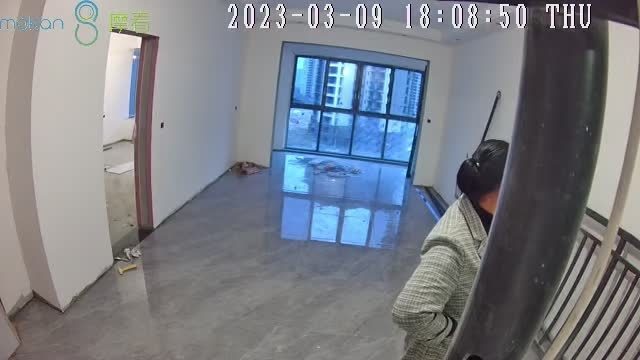people: (391, 139, 510, 360)
window: (285, 53, 425, 167)
